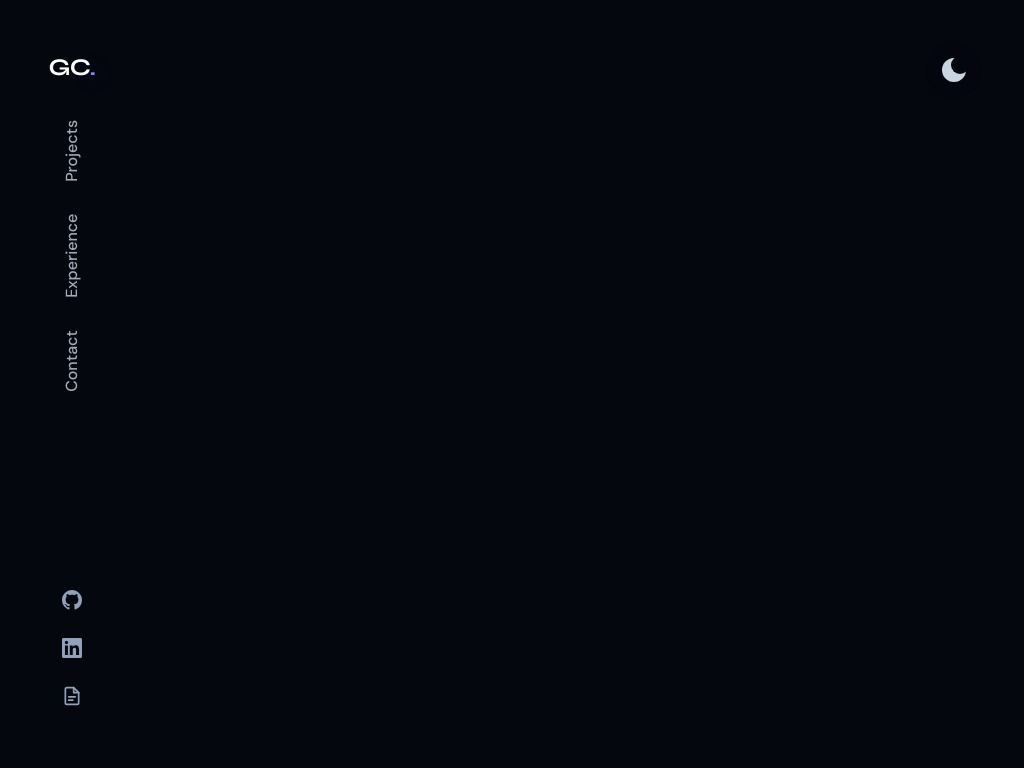
Test: Navbar › follows the section in view rather than the last click
This screenshot has width=1024, height=768.
Click the link "Projects" at (72, 151), box [61, 120, 82, 182]
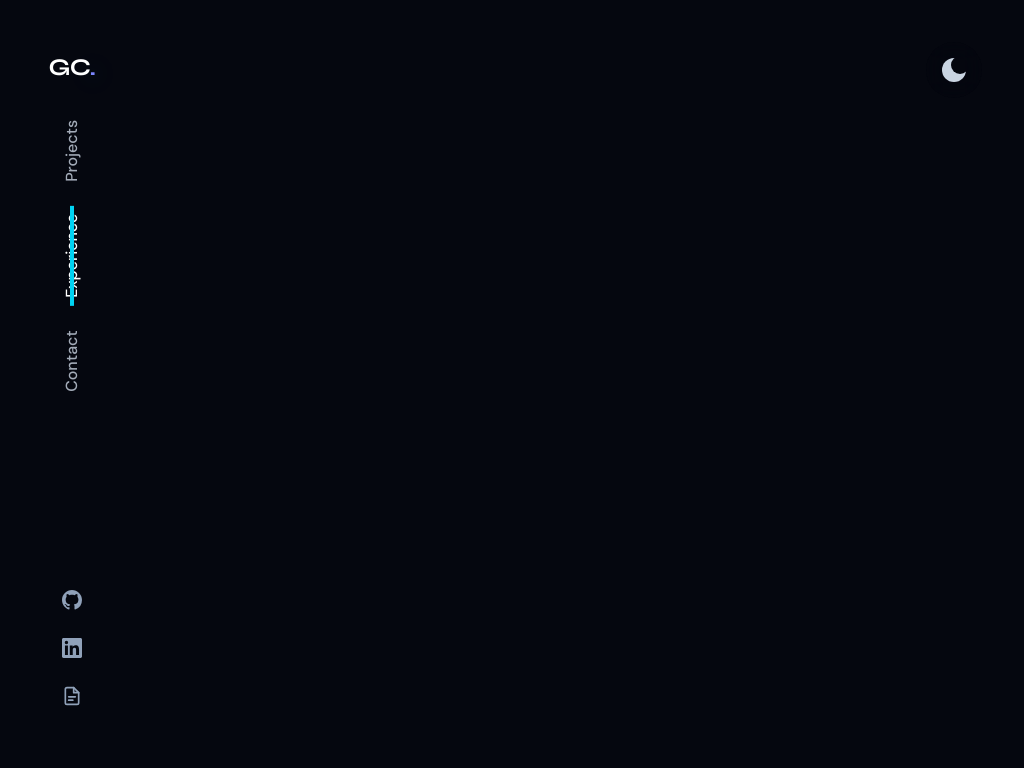
Check: the link "Experience" has attribute aria-current="location", box [61, 206, 82, 306]
